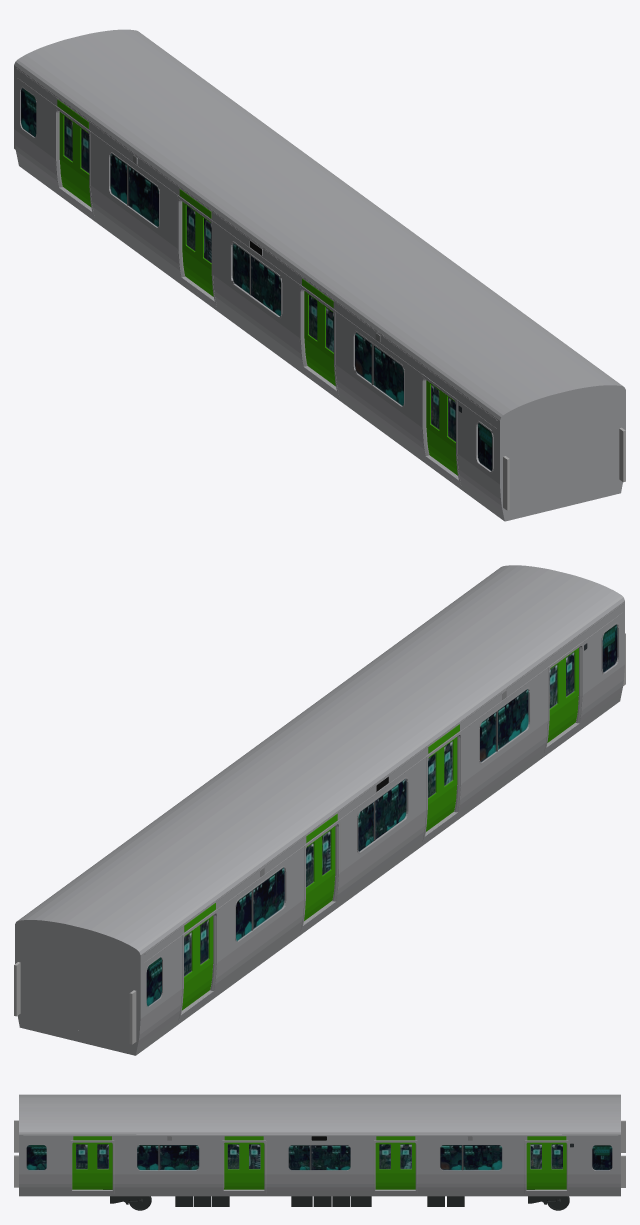
File: ReMake_train_D.glb
3 views of the same model, one above another, from view 1: azimuth 30°, elevation 25°; view 2: azimuth 150°, elevation 25°; view 3: azimuth 270°, elevation 25° (orthographic). The views are drawn at different scales.
Visible parts, largest first — view 1: 立方体.004, 立方体.061, エンプティ.005, エンプティ.006; view 2: 立方体.004, 立方体.061, エンプティ.005, エンプティ.006; view 3: 立方体.061, 立方体.004, エンプティ.008, エンプティ.009, 立方体.072, 立方体.075, 立方体.068, 立方体.074, 円柱, 円柱.007, 上ステッカー.002.
Boxes of the visible parts, <box> form: 立方体.004: <box>14,36,563,521</box>; 立方体.061: <box>77,29,625,506</box>; エンプティ.005: <box>21,88,492,470</box>; エンプティ.006: <box>64,116,455,441</box>; 立方体.004: <box>77,572,625,1055</box>; 立方体.061: <box>14,565,561,1041</box>; エンプティ.005: <box>146,624,617,1006</box>; エンプティ.006: <box>184,652,574,976</box>; 立方体.061: <box>14,1107,625,1196</box>; 立方体.004: <box>14,1094,625,1152</box>; エンプティ.008: <box>26,1145,612,1170</box>; エンプティ.009: <box>76,1144,562,1169</box>; 立方体.072: <box>350,1196,371,1206</box>; 立方体.075: <box>291,1196,312,1206</box>; 立方体.068: <box>193,1196,211,1206</box>; 立方体.074: <box>313,1196,331,1206</box>; 円柱: <box>128,1196,151,1210</box>; 円柱.007: <box>547,1196,569,1210</box>; 上ステッカー.002: <box>527,1136,566,1140</box>.
Size of the model in its own units: 2.08 by 2.45 by 13.83.
Materials: 45 (5 with a texture image).
